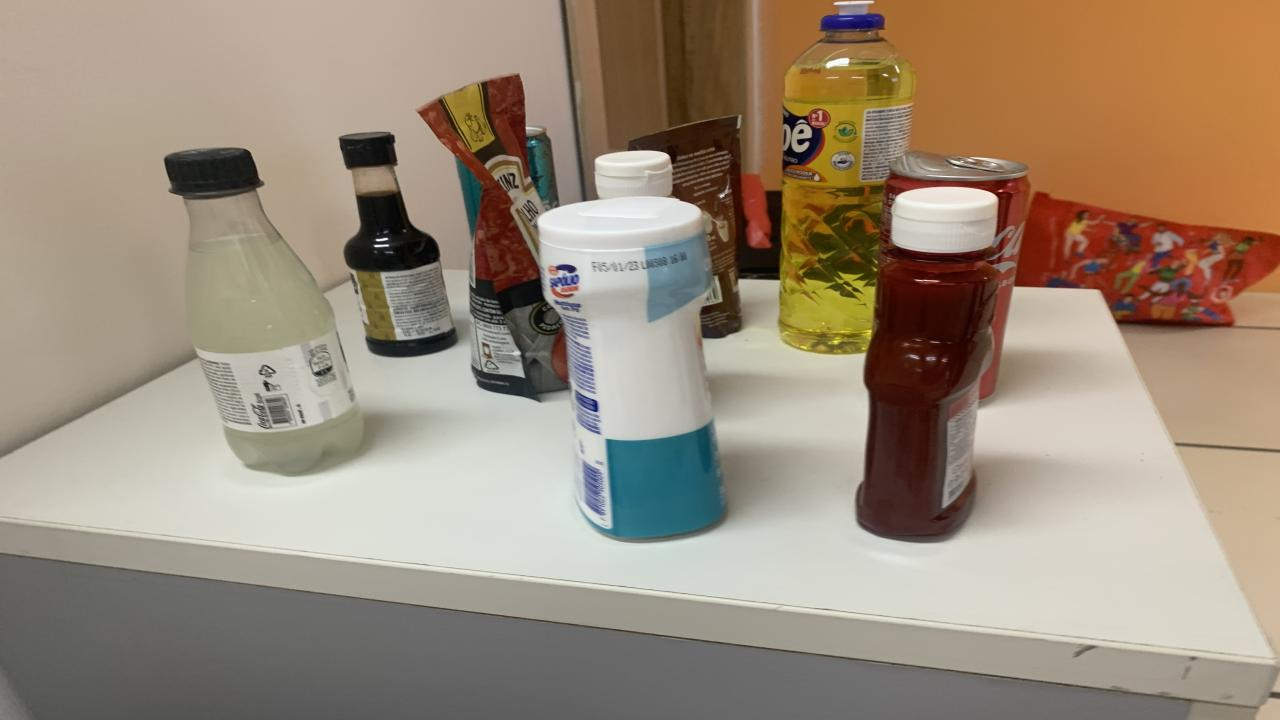Cleaner-Cleanup_Items: (540, 195, 725, 540)
Coke-Drinks: (882, 152, 1030, 401)
Detergent-Cleanup_Items: (778, 4, 915, 354)
English_Sauce-Pantry_Items: (342, 133, 458, 356)
Ketchup-Pantry_Items: (858, 188, 998, 538)
Soda-Drinks: (168, 150, 362, 474)
Tomato_Sauce-Pantry_Items: (418, 75, 568, 398)
